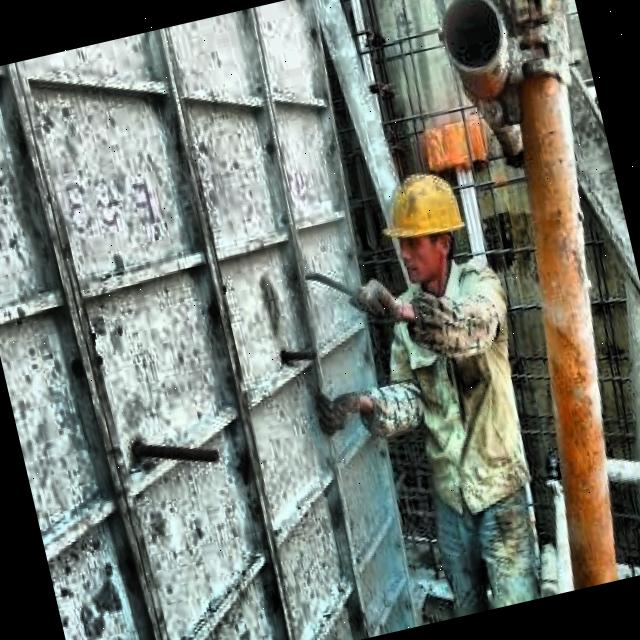helmet: (368, 156, 482, 296)
